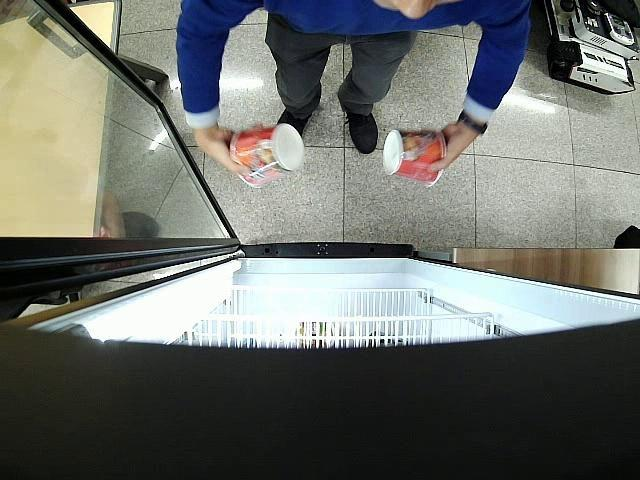01_ShinRamen_L: (230, 121, 306, 188), (381, 128, 443, 186)
